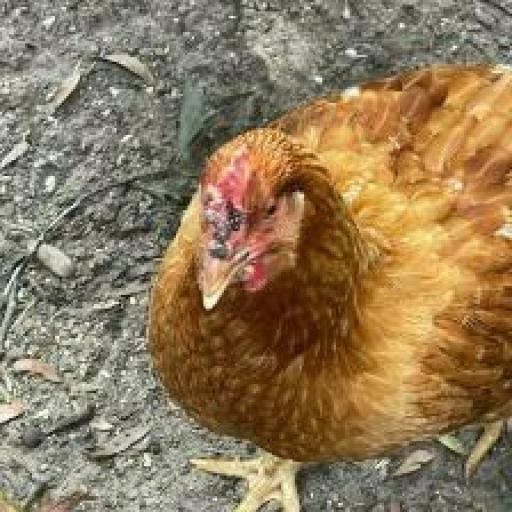disease: (205, 184, 252, 269)
